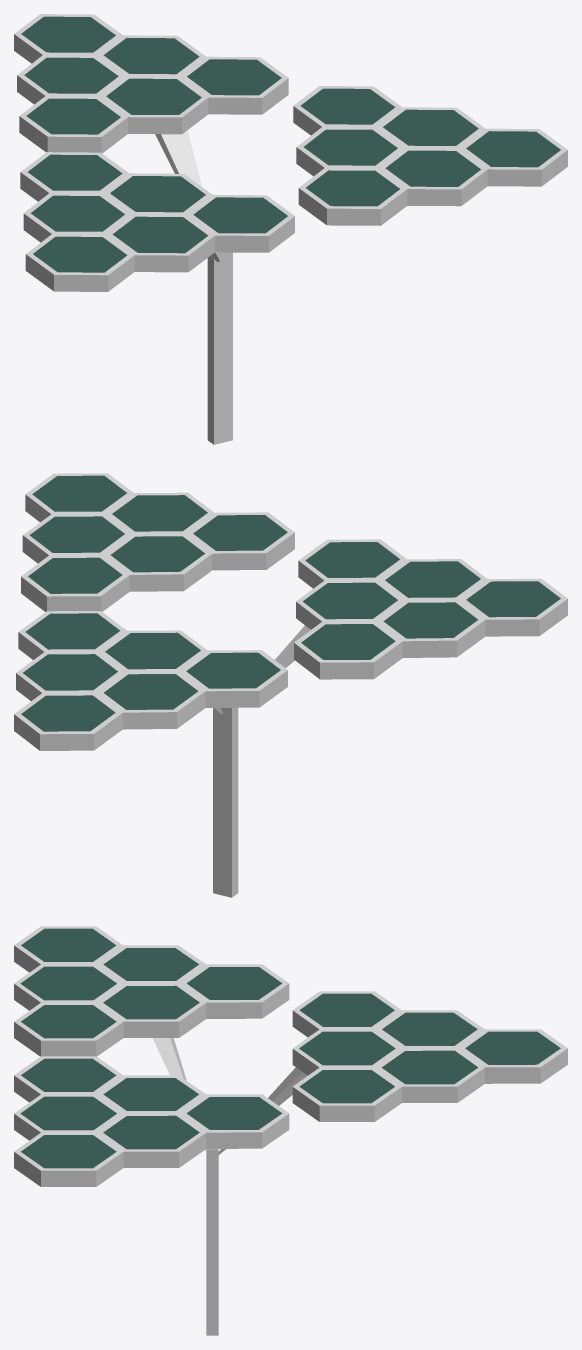
The model's file is solar2 (3).fbx.
3 views of the same model, one above another, from view 1: azimuth 30°, elevation 25°; view 2: azimuth 150°, elevation 25°; view 3: azimuth 270°, elevation 25° (orthographic). The views are drawn at different scales.
Visible parts, largest first — view 1: Cube.003, Cube.001, Cube.002, Cube.005, Cube; view 2: Cube.003, Cube.002, Cube.001, Cube.005; view 3: Cube.002, Cube.001, Cube.003, Cube.005, Cube.004, Cube.
Boxes of the visible parts, <box> form: Cube.003: <box>20,152,294,291</box>; Cube.001: <box>293,86,567,225</box>; Cube.002: <box>14,14,288,153</box>; Cube.005: <box>207,252,232,444</box>; Cube: <box>155,130,202,186</box>; Cube.003: <box>294,539,567,679</box>; Cube.002: <box>14,611,287,750</box>; Cube.001: <box>21,473,294,611</box>; Cube.005: <box>213,707,238,897</box>; Cube.002: <box>292,991,567,1121</box>; Cube.001: <box>14,1056,289,1186</box>; Cube.003: <box>14,926,289,1056</box>; Cube.005: <box>206,1149,218,1335</box>; Cube.004: <box>152,1038,206,1151</box>; Cube: <box>218,1067,307,1154</box>.
Size of the model in its own units: 985 by 535 by 945.
